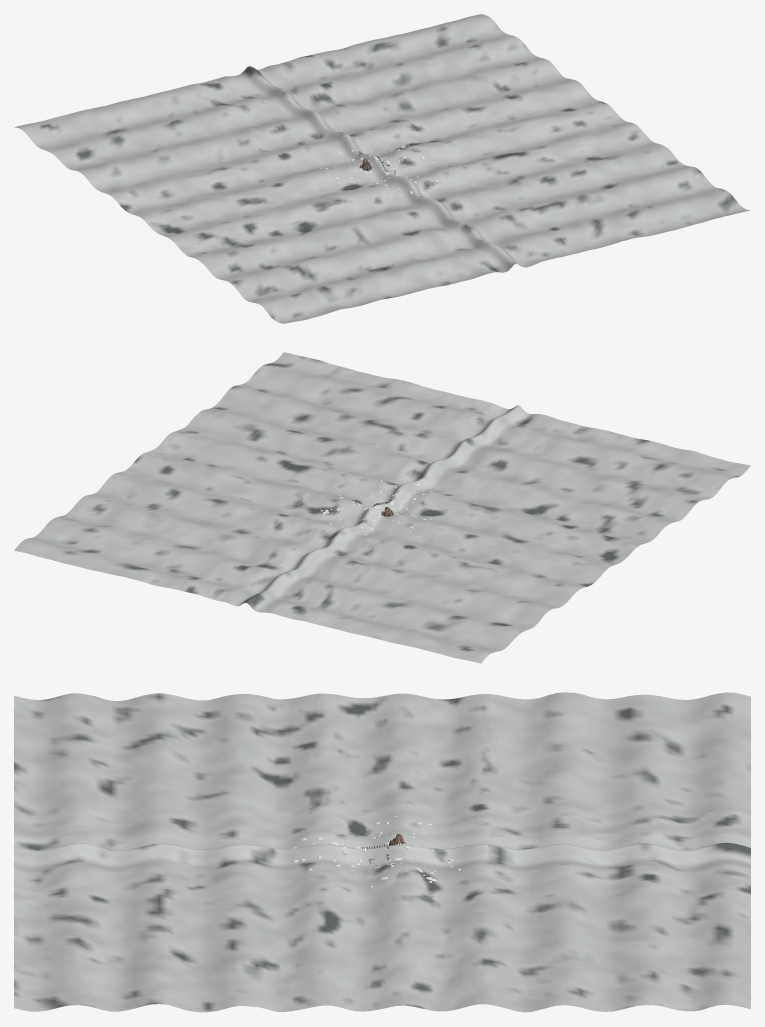
The model's file is jiajin.glb.
3 renders of one model, top to bottom at view 1: azimuth 30°, elevation 25°; view 2: azimuth 150°, elevation 25°; view 3: azimuth 270°, elevation 25°, orthographic. The views are drawn at different scales.
Parts seen in each view (by area): view 1: Continuous terrain; view 2: Continuous terrain; view 3: Continuous terrain, Historic rock.
Part boxes in pixels (x1,y1,x2,y2): Continuous terrain: (14,14,749,323); Continuous terrain: (14,352,750,663); Continuous terrain: (14,692,750,1012); Historic rock: (291,815,463,887).
Bounding box in the file's own units: 474 × 13.45 × 474.
Materials: 16 (8 with a texture image).
